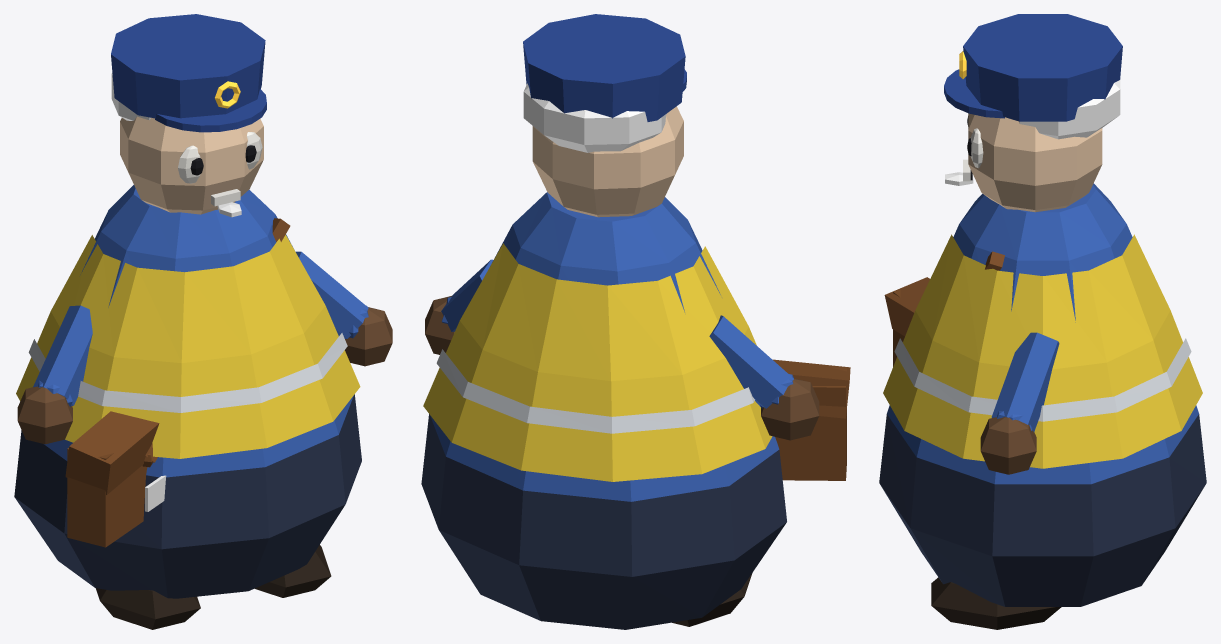
Rendered from npc_postal.glb.
The picture shows the model from 3 angles, left to right: view 1: azimuth 30°, elevation 25°; view 2: azimuth 150°, elevation 25°; view 3: azimuth 270°, elevation 25°; orthographic projection. The views are drawn at different scales.
Visible parts, largest first — view 1: body_post_vest, body_post_pants, cap_post_cap, body_post_shirt, body_post_leather, head_skin_crema, arms_post_shirt, body_reflective, legs_post_shoes, glove_left_post_glove, glove_right_post_glove, face_white (+1 smaller); view 2: body_post_vest, body_post_pants, body_post_shirt, cap_post_cap, head_skin_crema, body_post_leather, body_reflective, hair_hair, arms_post_shirt, glove_left_post_glove, glove_right_post_glove, legs_post_shoes; view 3: body_post_vest, body_post_pants, body_post_shirt, cap_post_cap, head_skin_crema, body_reflective, arms_post_shirt, legs_post_shoes, glove_right_post_glove, hair_hair, body_post_leather.
Boxes of the visible parts, left/top/right/bottom form: body_post_vest: left=16, top=235, right=360, bottom=458; body_post_pants: left=14, top=394, right=361, bottom=598; cap_post_cap: left=111, top=14, right=266, bottom=132; body_post_shirt: left=44, top=185, right=353, bottom=477; body_post_leather: left=65, top=218, right=290, bottom=547; head_skin_crema: left=120, top=116, right=263, bottom=214; arms_post_shirt: left=33, top=251, right=368, bottom=406; body_reflective: left=28, top=333, right=347, bottom=412; legs_post_shoes: left=95, top=545, right=331, bottom=629; glove_left_post_glove: left=17, top=386, right=72, bottom=444; glove_right_post_glove: left=345, top=307, right=392, bottom=366; face_white: left=178, top=132, right=262, bottom=183; body_post_vest: left=423, top=243, right=772, bottom=481; body_post_pants: left=421, top=414, right=786, bottom=629; body_post_shirt: left=430, top=192, right=779, bottom=501; cap_post_cap: left=523, top=14, right=686, bottom=121; head_skin_crema: left=532, top=106, right=683, bottom=217; body_post_leather: left=773, top=359, right=850, bottom=480; body_reflective: left=436, top=349, right=754, bottom=433; hair_hair: left=523, top=83, right=666, bottom=152; arms_post_shirt: left=441, top=259, right=793, bottom=408; glove_left_post_glove: left=761, top=378, right=819, bottom=440; glove_right_post_glove: left=425, top=296, right=454, bottom=354; legs_post_shoes: left=672, top=573, right=752, bottom=626; body_post_vest: left=883, top=234, right=1202, bottom=468; body_post_pants: left=879, top=414, right=1206, bottom=606; body_post_shirt: left=887, top=183, right=1198, bottom=484; cap_post_cap: left=944, top=14, right=1122, bottom=121; head_skin_crema: left=968, top=113, right=1102, bottom=212; body_reflective: left=894, top=338, right=1191, bottom=421; arms_post_shirt: left=991, top=332, right=1059, bottom=431; legs_post_shoes: left=931, top=577, right=1061, bottom=629; glove_right_post_glove: left=980, top=417, right=1036, bottom=474; hair_hair: left=1019, top=80, right=1120, bottom=139; body_post_leather: left=884, top=251, right=1004, bottom=366.
Size of the model in its own units: 1.15 by 1.58 by 0.86.
